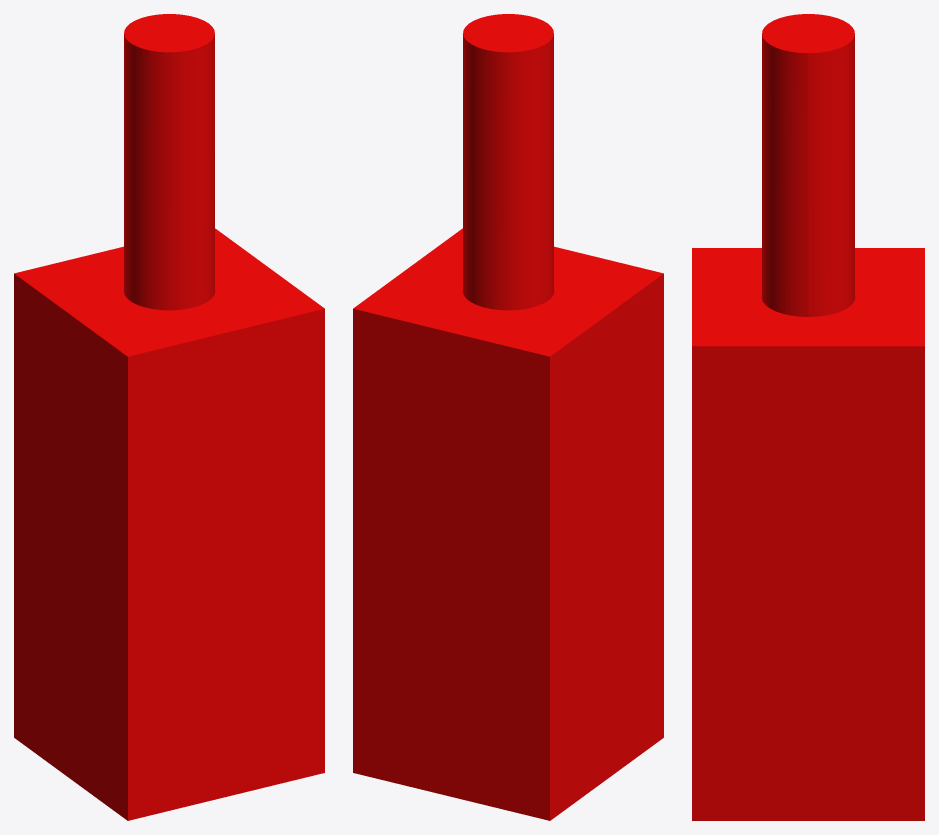
The model's file is bore-guide.glb.
3 views of the same model, side by side, from view 1: azimuth 30°, elevation 25°; view 2: azimuth 150°, elevation 25°; view 3: azimuth 270°, elevation 25° (orthographic). The views are drawn at different scales.
Parts seen in each view (by area): view 1: guide, valve; view 2: guide, valve; view 3: guide, valve.
Boxes of the visible parts, <box> form: guide: <box>14,228,324,820</box>; valve: <box>124,14,214,310</box>; guide: <box>353,228,663,820</box>; valve: <box>463,14,553,310</box>; guide: <box>692,248,924,820</box>; valve: <box>762,14,854,316</box>.
Size of the model in its own units: 20 by 70 by 20.
